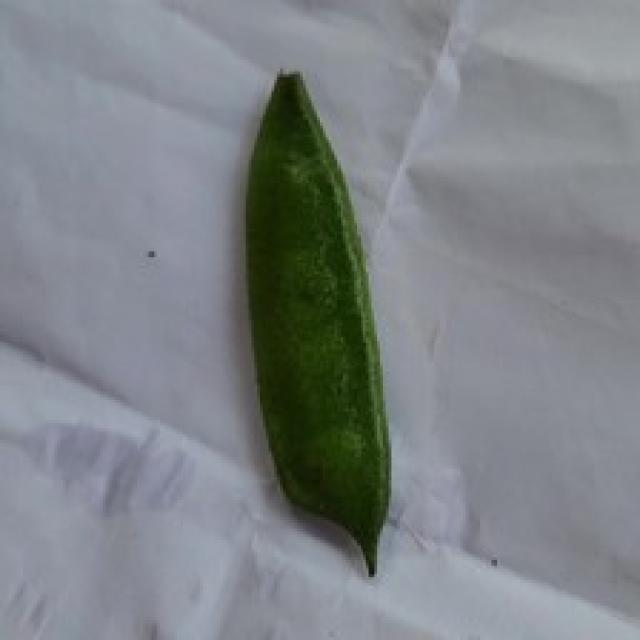Bean: (240, 66, 391, 577)
